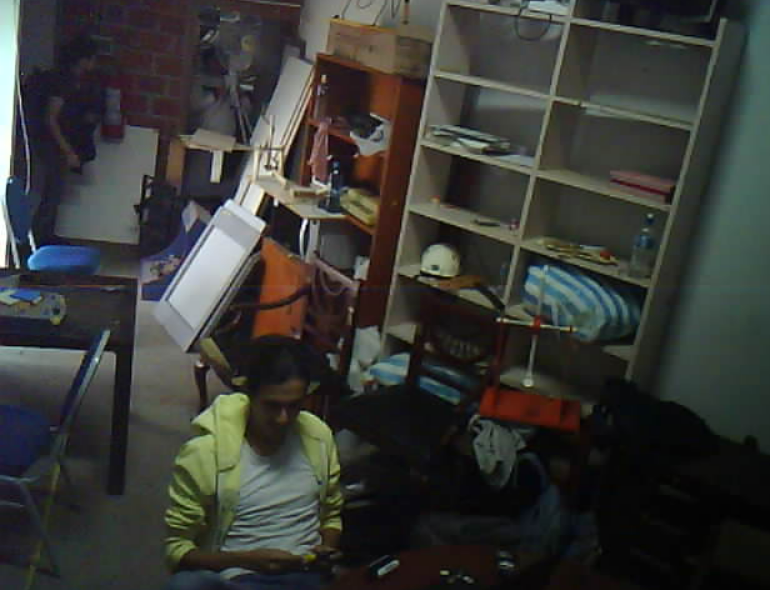person: (142, 325, 358, 590), (1, 27, 137, 265)
